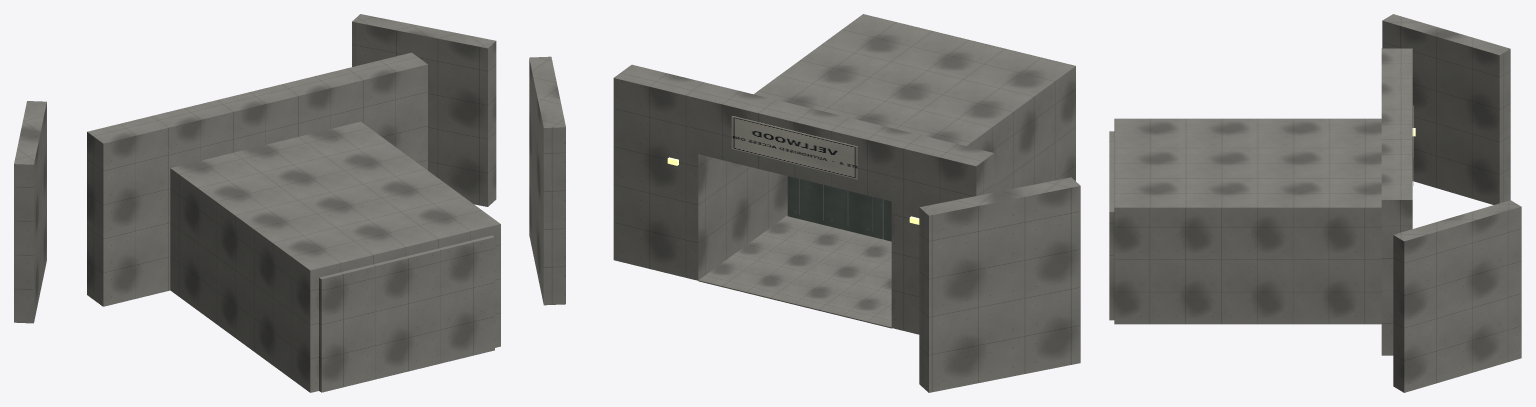
Rendered from facility_portal.glb.
3 views of the same model, side by side, from view 1: azimuth 30°, elevation 25°; view 2: azimuth 150°, elevation 25°; view 3: azimuth 270°, elevation 25° (orthographic). The views are drawn at different scales.
Visible parts, largest first — view 1: facility_portal; view 2: facility_portal; view 3: facility_portal.
Part boxes in pixels (left/top/right/bottom): facility_portal: left=14, top=14, right=500, bottom=392; facility_portal: left=529, top=14, right=1080, bottom=392; facility_portal: left=1109, top=14, right=1521, bottom=392.
Bounding box in the file's own units: 22.54 × 7.22 × 17.26.
4 materials, 3 textured.
